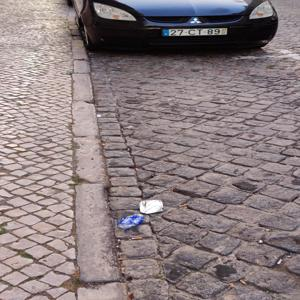metal: (135, 194, 170, 216)
plastic: (117, 214, 151, 232)
